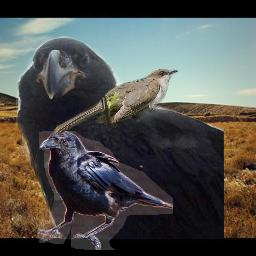Crow: (14, 36, 224, 239), (37, 131, 173, 250)
Cuckoo: (53, 68, 178, 135)
